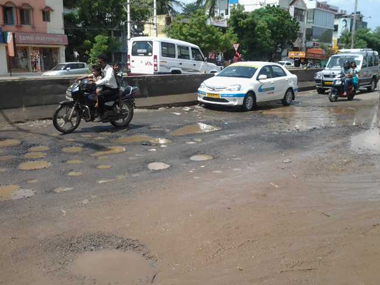pothole: (261, 97, 343, 122), (166, 110, 214, 140), (349, 120, 379, 165), (166, 110, 221, 133), (0, 179, 29, 204), (92, 143, 131, 157), (185, 147, 219, 163), (16, 158, 53, 171), (141, 158, 169, 171), (0, 132, 24, 147)
